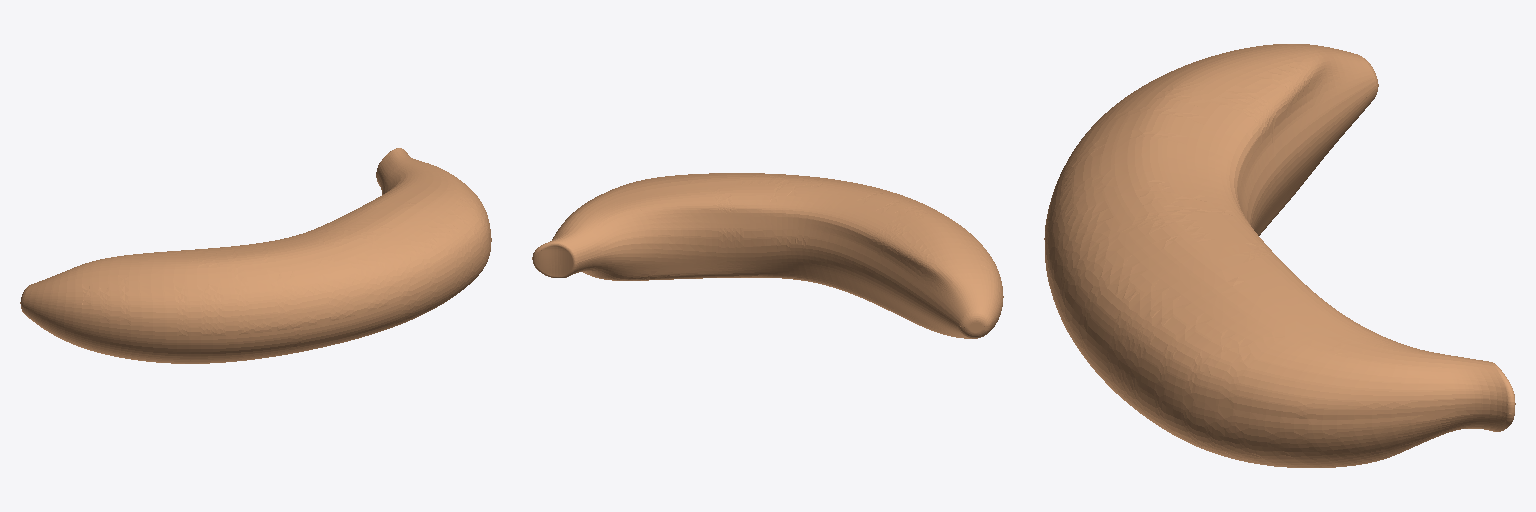
The robot description file, URDF, robot "banana.urdf":
<?xml version="0.0" ?>
<robot name="banana.urdf">
  <link name="baseLink">
    <contact>
      <lateral_friction value="1.0"/>
      <inertia_scaling value="3.0"/>
    </contact>
    <inertial>
      <origin rpy="0 0 0" xyz="0 0 0"/>
       <mass value=".2"/>
       <inertia ixx="0.1" ixy="0" ixz="0" iyy="0.1" iyz="0" izz="0.1"/>
    </inertial>
    <visual>
      <origin rpy="0 0 0" xyz="0 0 0"/>
      <geometry>
        <mesh filename="banana.stl" scale="0.0005 .0005 .0005"/>
      </geometry>
      <material name="yellow">
        <color rgba="0.85 0.65 0.49 1"/>
      </material>
    </visual>
    <collision>
      <origin rpy="0 0 0" xyz="0 0 0"/>
      <geometry>
    <box size="0.005 0.005 0.005"/>
      </geometry>
    </collision>
  </link>
</robot>

--- Render facts (derived) ---
3 views of the same robot in one strip: view 1: azimuth 30°, elevation 25°; view 2: azimuth 150°, elevation 25°; view 3: azimuth 270°, elevation 25° (orthographic).
Robot: banana.urdf — 1 links, 0 joints (none); root link baseLink; default pose: all joints at 0.
Links seen in each view (by area): view 1: baseLink; view 2: baseLink; view 3: baseLink.
Link boxes in pixels (x1,y1,x2,y2): baseLink: (20, 148, 491, 363); baseLink: (532, 173, 1003, 338); baseLink: (1044, 44, 1515, 467).
Bounding box of the posed robot: 0.1541 × 0.0873 × 0.0338 m (x, y, z).
Meshes: 1 distinct files referenced, 1 mesh visuals loaded (1 binary STL).